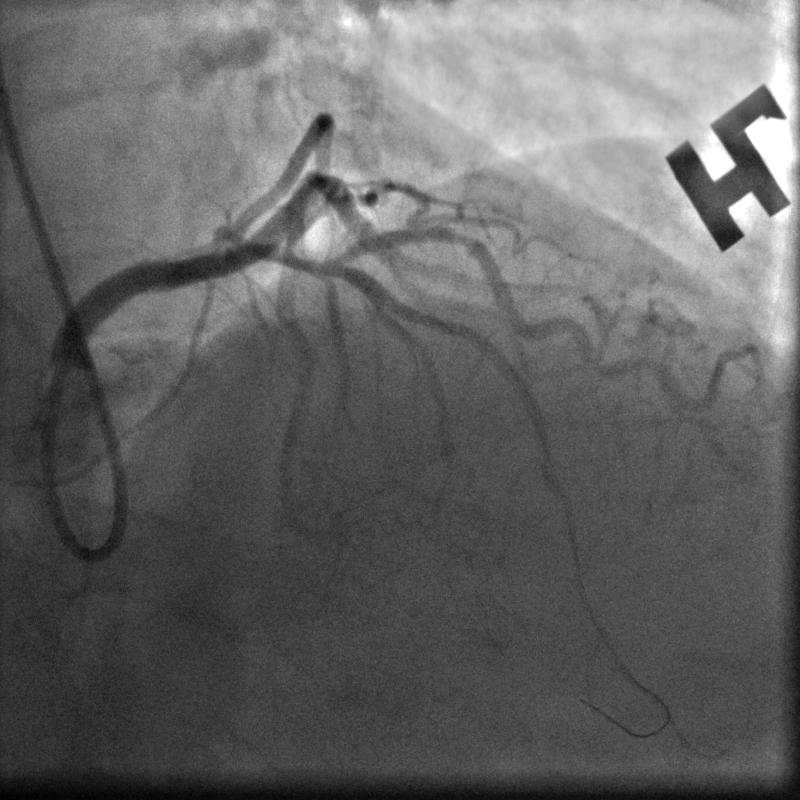Stenosis: (435, 217, 481, 257)
